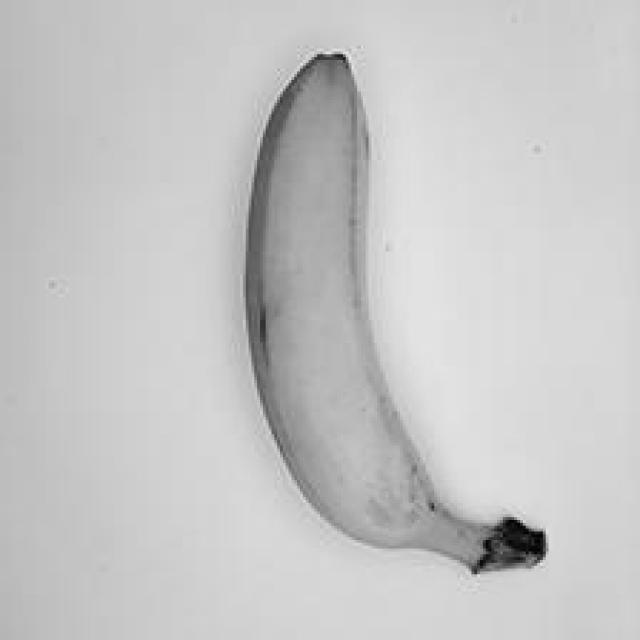Unripe: (192, 30, 579, 597)
